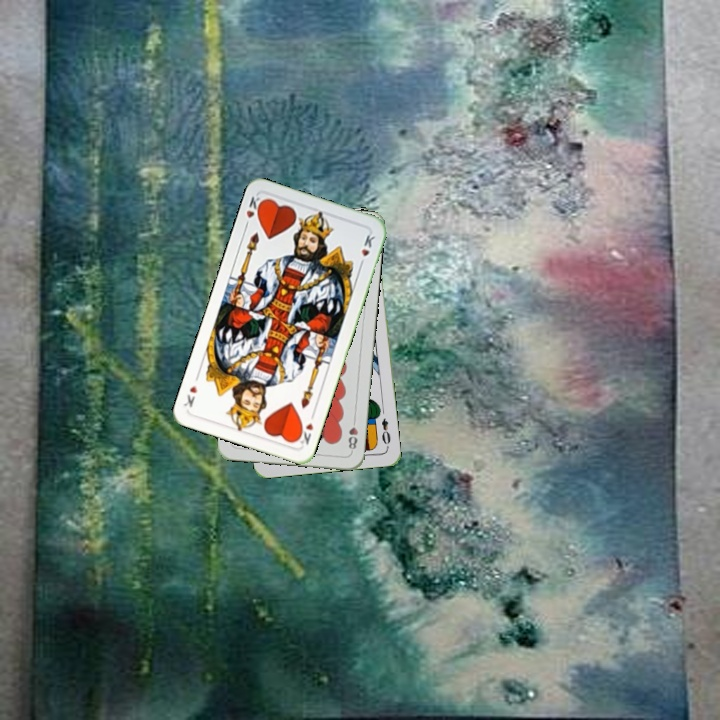EO: (378, 414, 393, 450)
H8: (344, 414, 360, 454)
HK: (241, 192, 266, 231), (293, 409, 318, 447)
